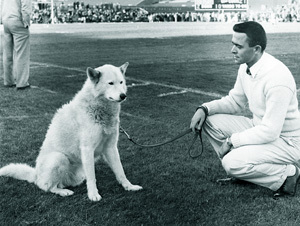dog: (2, 60, 144, 204)
